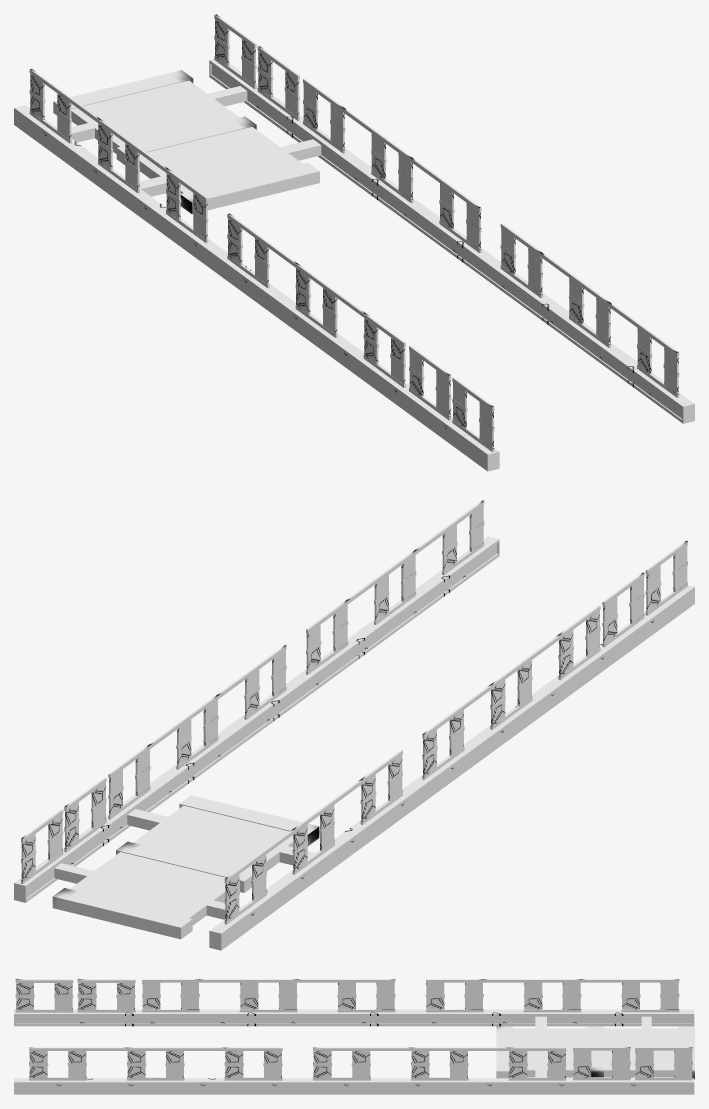
3 renders of one model, top to bottom at view 1: azimuth 30°, elevation 25°; view 2: azimuth 150°, elevation 25°; view 3: azimuth 270°, elevation 25°, orthographic. The views are drawn at different scales.
Parts seen in each view (by area): view 1: 037, 044, Object004; view 2: 037, 044, Object004; view 3: 044, 037, Object004.
Part boxes in pixels (x1,y1,x2,y2): 037: (14,69,499,471); 044: (209,14,694,423); Object004: (53,70,321,213); 037: (209,540,694,950); 044: (14,500,499,902); Object004: (52,795,319,939); 044: (14,1047,694,1094); 037: (14,979,694,1026); Object004: (496,1016,694,1079).
Bounding box in the file's own units: 2617 × 10369 × 749.
